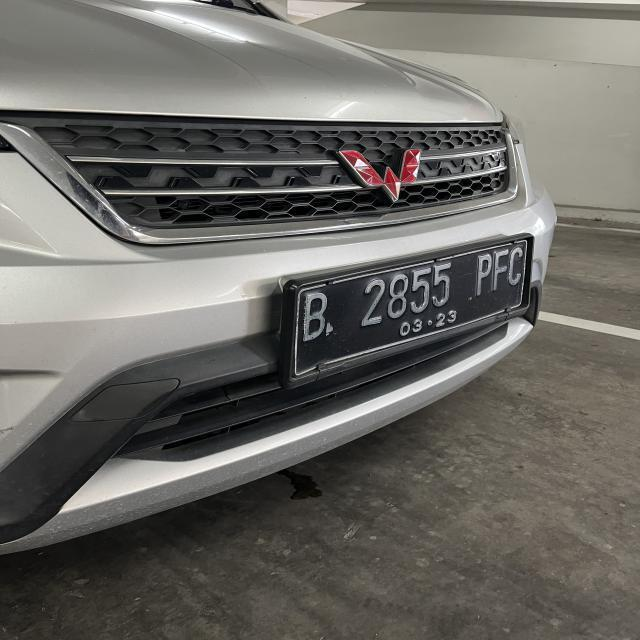2: (362, 278, 384, 326)
5: (434, 264, 451, 307), (412, 270, 429, 312)
8: (390, 274, 407, 320)
B: (303, 292, 330, 344)
C: (510, 247, 522, 286)
F: (494, 252, 506, 291)
P: (474, 254, 492, 296)
